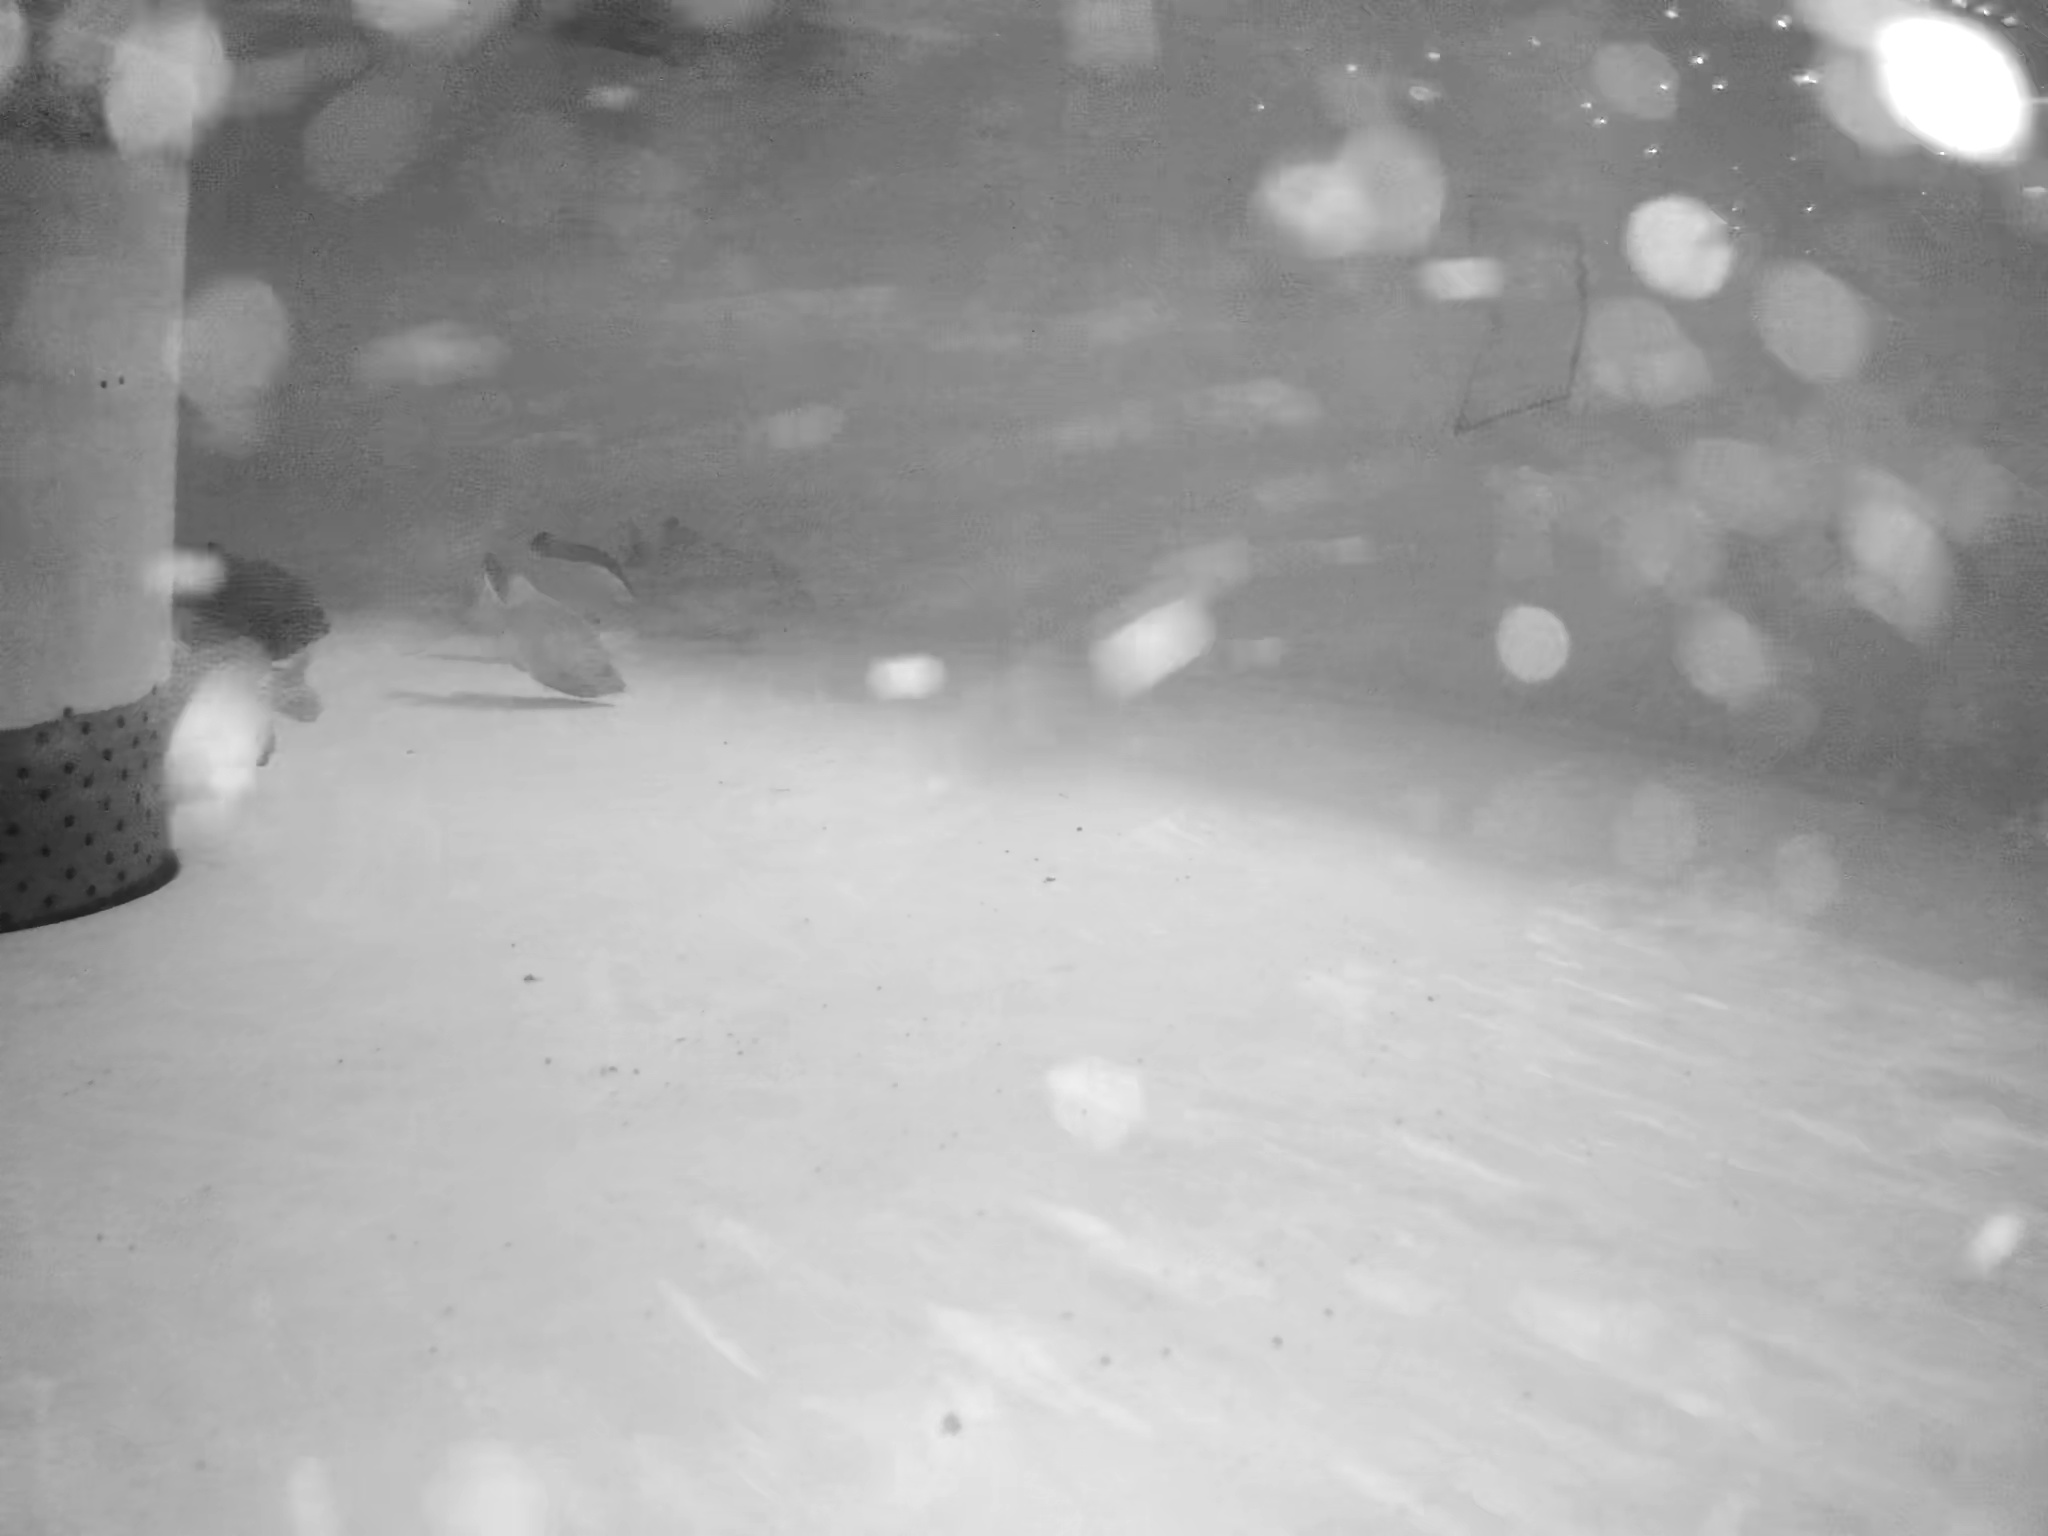fish: (626, 521, 816, 652), (185, 536, 350, 671), (466, 566, 616, 707), (205, 615, 331, 744), (537, 541, 664, 641)
